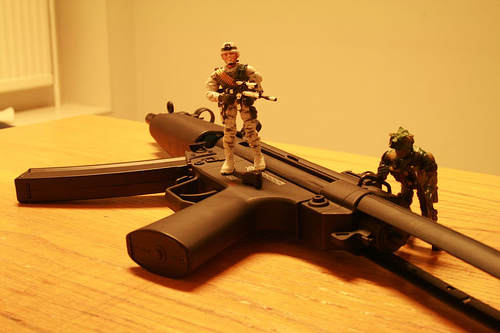rifle: (10, 99, 499, 319), (238, 80, 278, 103)
rifle in hand: (219, 80, 307, 114)
